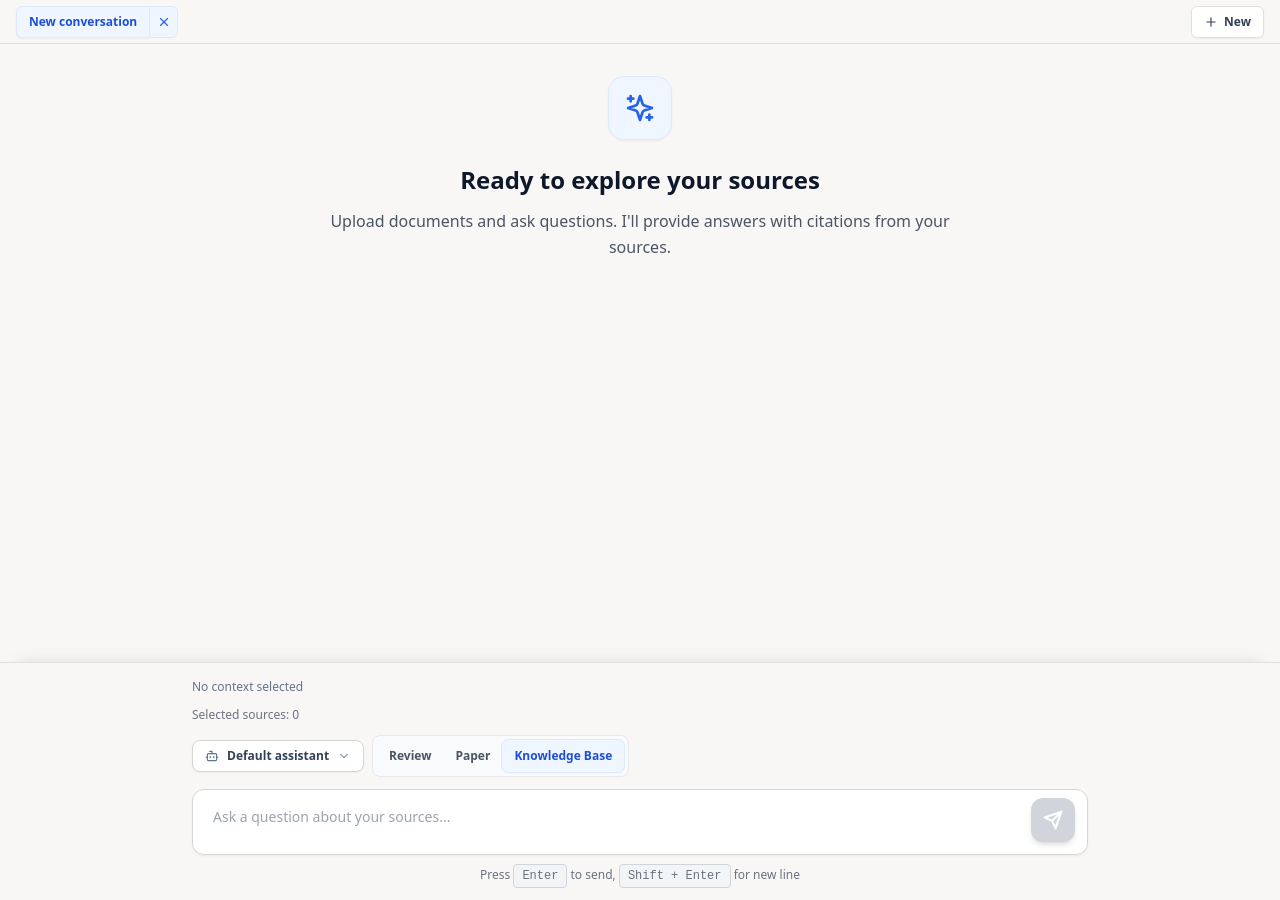
Scenario: ChatInterface workspace layout › opens a slash command menu and inserts the selected skill command
Step 1. Type "/" into the text box with placeholder "Ask a question about your sources..." → (640, 818), box [193,790,1087,846]
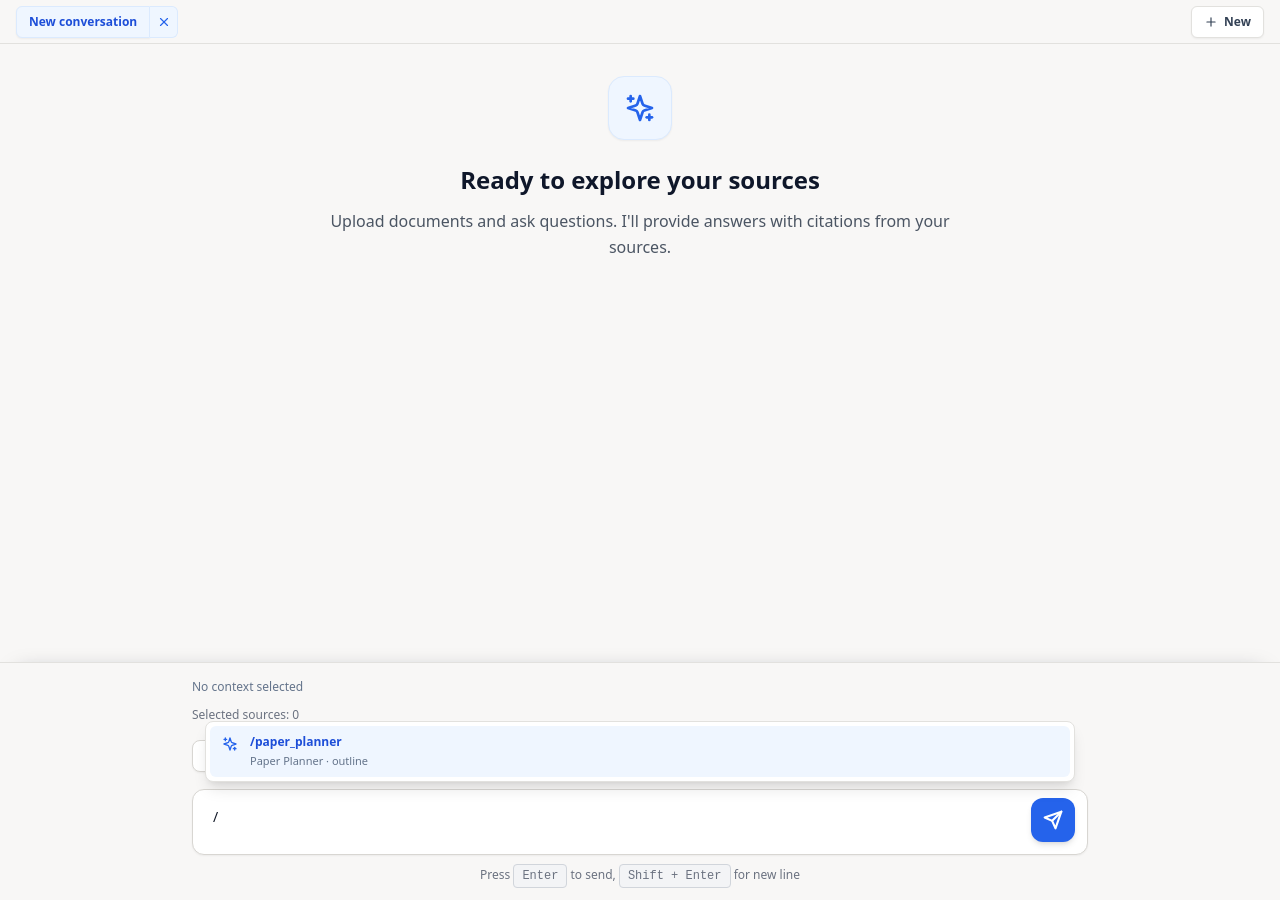
Result: the list named "skill commands" is shown at [205,721,1075,782]
Step 2. Click the option "/paper_planner Paper Planner · outline" → (298, 741), box [210,726,1070,777]
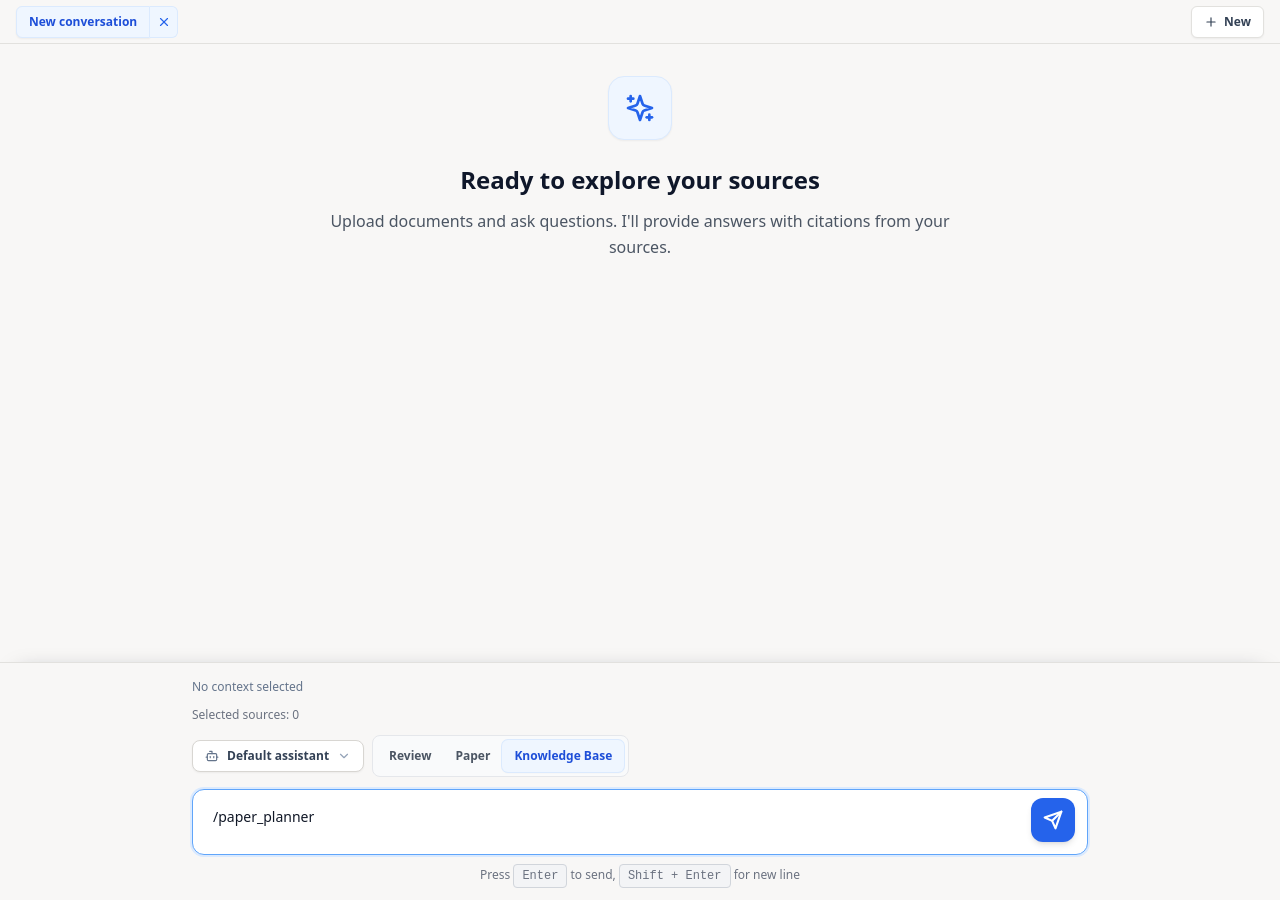
Result: the text box with placeholder "Ask a question about your sources..." holds "/paper_planner " at [193,790,1087,846]
